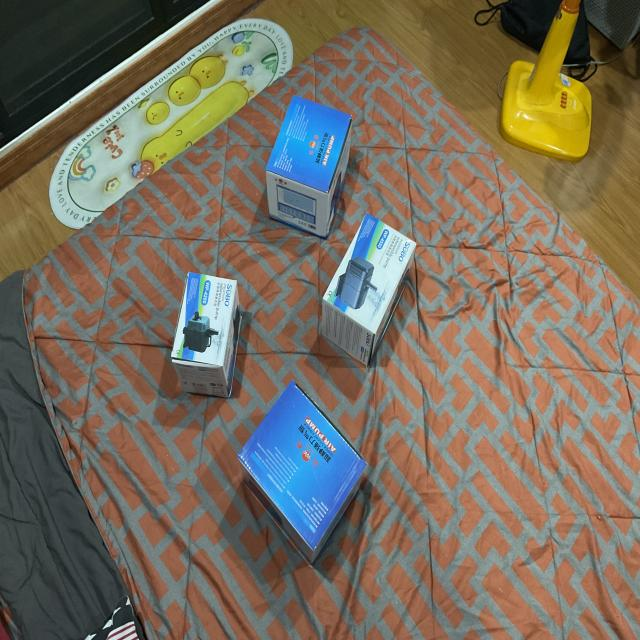SOBO_WP_4200: (315, 208, 433, 382), (168, 258, 250, 408)
YAMANO_LPP_20: (220, 378, 382, 572), (257, 80, 362, 244)
